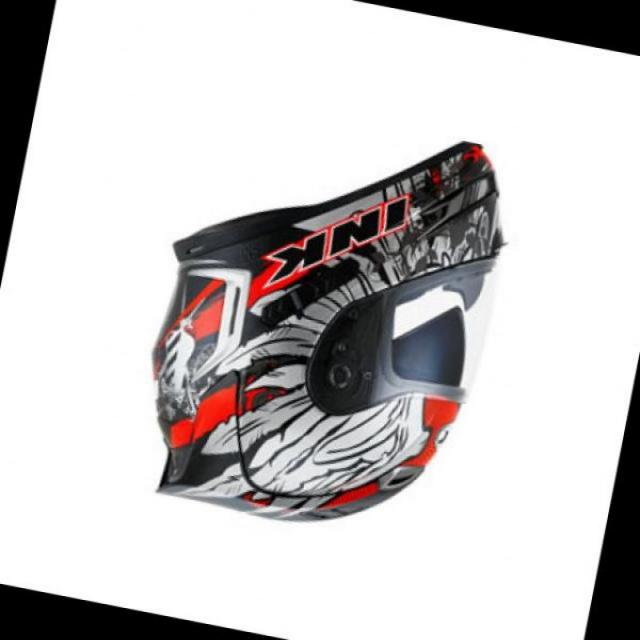Helmet: (120, 126, 490, 534)
